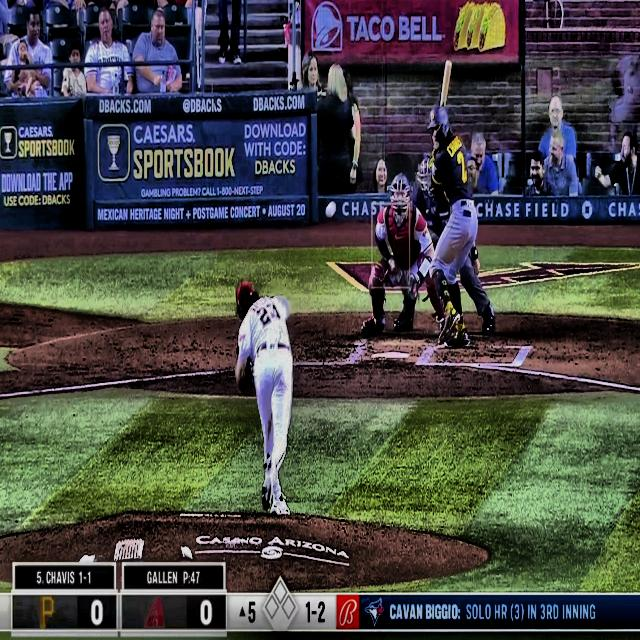baseball: (325, 201, 336, 218)
